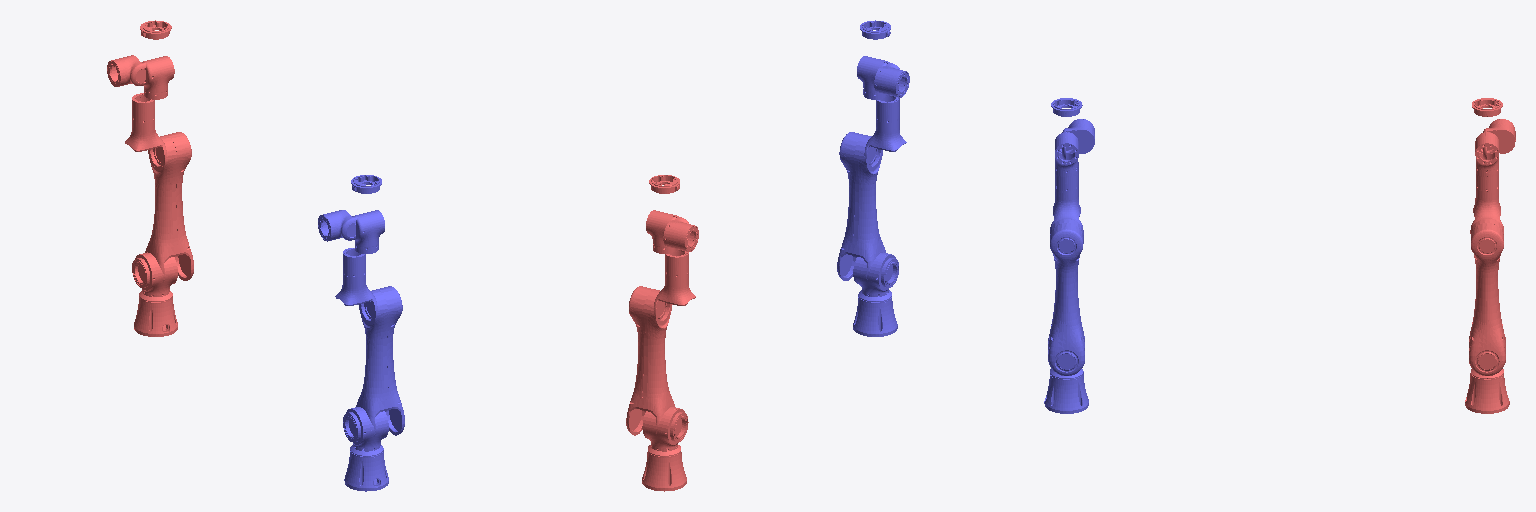
robot.urdf — dual_arm620:
<?xml version="1.0" encoding="utf-8"?>
<robot name="dual_arm620" xmlns:tesseract="http://ros-industrial.org/tesseract" tesseract:make_convex="true">
  <!-- World link -->
  <link name="world"/>

  <!-- ========== 左臂 (Left Arm) ========== -->
  <link name="left_base_link">
    <inertial>
      <origin xyz="-3.493E-05 1.9321E-08 0.041738" rpy="0 0 0" />
      <mass value="1.235" />
      <inertia
        ixx="0.00069305"
        ixy="-2.4629E-09"
        ixz="-7.7538E-07"
        iyy="0.00069224"
        iyz="1.1986E-09"
        izz="0.00059207" />
    </inertial>
    <visual>
      <origin xyz="0 0 0" rpy="0 0 0" />
      <geometry>
        <mesh filename="package://robot_description/meshes/arm620/base_link.STL" />
      </geometry>
      <material name="">
        <color rgba="0.5 0.5 1 1" />
      </material>
    </visual>
    <collision>
      <origin xyz="0 0 0" rpy="0 0 0" />
      <geometry>
        <mesh filename="package://robot_description/meshes/arm620/base_link.STL" />
      </geometry>
    </collision>
  </link>

  <link name="left_Link1">
    <inertial>
      <origin xyz="0.0083082 -9.0414E-07 0.066279" rpy="0 0 0" />
      <mass value="1.0225" />
      <inertia
        ixx="0.00033468"
        ixy="-1.0629E-08"
        ixz="-6.9769E-06"
        iyy="0.0002898"
        iyz="-1.0465E-08"
        izz="0.00026359" />
    </inertial>
    <visual>
      <origin xyz="0 0 0" rpy="0 0 0" />
      <geometry>
        <mesh filename="package://robot_description/meshes/arm620/Link1.STL" />
      </geometry>
      <material name="">
        <color rgba="0.5 0.5 1 1" />
      </material>
    </visual>
    <collision>
      <origin xyz="0 0 0" rpy="0 0 0" />
      <geometry>
        <mesh filename="package://robot_description/meshes/arm620/Link1.STL" />
      </geometry>
    </collision>
  </link>

  <link name="left_Link2">
    <inertial>
      <origin xyz="1.6176E-06 0.19554 -0.0019139" rpy="0 0 0" />
      <mass value="1.925" />
      <inertia
        ixx="0.0092613"
        ixy="2.9244E-08"
        ixz="-6.7107E-09"
        iyy="0.00075528"
        iyz="-1.5539E-05"
        izz="0.0090845" />
    </inertial>
    <visual>
      <origin xyz="0 0 0" rpy="0 0 0" />
      <geometry>
        <mesh filename="package://robot_description/meshes/arm620/Link2.STL" />
      </geometry>
      <material name="">
        <color rgba="0.5 0.5 1 1" />
      </material>
    </visual>
    <collision>
      <origin xyz="0 0 0" rpy="0 0 0" />
      <geometry>
        <mesh filename="package://robot_description/meshes/arm620/Link2.STL" />
      </geometry>
    </collision>
  </link>

  <link name="left_Link3">
    <inertial>
      <origin xyz="1.8251E-05 -0.073691 0.010704" rpy="0 0 0" />
      <mass value="0.73" />
      <inertia
        ixx="0.00059318"
        ixy="1.2073E-07"
        ixz="1.9423E-08"
        iyy="0.00015563"
        iyz="-0.00011324"
        izz="0.00055379" />
    </inertial>
    <visual>
      <origin xyz="0 0 0" rpy="0 0 0" />
      <geometry>
        <mesh filename="package://robot_description/meshes/arm620/Link3.STL" />
      </geometry>
      <material name="">
        <color rgba="0.5 0.5 1 1" />
      </material>
    </visual>
    <collision>
      <origin xyz="0 0 0" rpy="0 0 0" />
      <geometry>
        <mesh filename="package://robot_description/meshes/arm620/Link3.STL" />
      </geometry>
    </collision>
  </link>

  <link name="left_Link4">
    <inertial>
      <origin xyz="0.0059454 2.5068E-05 0.051809" rpy="0 0 0" />
      <mass value="0.5174" />
      <inertia
        ixx="0.00010342"
        ixy="-7.9433E-09"
        ixz="-7.9245E-06"
        iyy="0.0001193"
        iyz="-1.6196E-08"
        izz="8.5637E-05" />
    </inertial>
    <visual>
      <origin xyz="0 0 0" rpy="0 0 0" />
      <geometry>
        <mesh filename="package://robot_description/meshes/arm620/Link4.STL" />
      </geometry>
      <material name="">
        <color rgba="0.5 0.5 1 1" />
      </material>
    </visual>
    <collision>
      <origin xyz="0 0 0" rpy="0 0 0" />
      <geometry>
        <mesh filename="package://robot_description/meshes/arm620/Link4.STL" />
      </geometry>
    </collision>
  </link>

  <link name="left_Link5">
    <inertial>
      <origin xyz="0.0095168 0.061153 1.0106E-05" rpy="0 0 0" />
      <mass value="0.7233" />
      <inertia
        ixx="0.00013586"
        ixy="3.9115E-05"
        ixz="3.3963E-08"
        iyy="0.00010055"
        iyz="-1.3885E-07"
        izz="0.0001594" />
    </inertial>
    <visual>
      <origin xyz="0 0 0" rpy="0 0 0" />
      <geometry>
        <mesh filename="package://robot_description/meshes/arm620/Link5.STL" />
      </geometry>
      <material name="">
        <color rgba="0.5 0.5 1 1" />
      </material>
    </visual>
    <collision>
      <origin xyz="0 0 0" rpy="0 0 0" />
      <geometry>
        <mesh filename="package://robot_description/meshes/arm620/Link5.STL" />
      </geometry>
    </collision>
  </link>

  <link name="left_Link6">
    <inertial>
      <origin xyz="-0.0023023 0.0016027 0.010682" rpy="0 0 0" />
      <mass value="0.0953" />
      <inertia
        ixx="1.3179E-05"
        ixy="-9.4826E-08"
        ixz="2.2437E-07"
        iyy="1.3416E-05"
        iyz="-1.8512E-07"
        izz="2.4622E-05" />
    </inertial>
    <visual>
      <origin xyz="0 0 0" rpy="0 0 0" />
      <geometry>
        <mesh filename="package://robot_description/meshes/arm620/Link6.STL" />
      </geometry>
      <material name="">
        <color rgba="0.5 0.5 1 1" />
      </material>
    </visual>
    <collision>
      <origin xyz="0 0 0" rpy="0 0 0" />
      <geometry>
        <mesh filename="package://robot_description/meshes/arm620/Link6.STL" />
      </geometry>
    </collision>
  </link>

  <!-- 左臂关节连接 -->
  <joint name="left_base_joint" type="fixed">
    <parent link="world"/>
    <child link="left_base_link"/>
    <origin xyz="0 -0.5 0" rpy="0 0 0" />
    <axis xyz="0 0 1" />
  </joint>

  <joint name="left_joint1" type="revolute">
    <origin xyz="0 0 0.084" rpy="0 0 0" />
    <parent link="left_base_link" />
    <child link="left_Link1" />
    <axis xyz="0 0 1" />
    <limit lower="-2.967" upper="2.967" effort="51" velocity="3.14" />
  </joint>

  <joint name="left_joint2" type="revolute">
    <origin xyz="0 0 0.068718" rpy="1.5708 0 -1.5708" />
    <parent link="left_Link1" />
    <child link="left_Link2" />
    <axis xyz="0 0 -1" />
    <limit lower="-1.5708" upper="1.5708" effort="51" velocity="3.14" />
  </joint>

  <joint name="left_joint3" type="revolute">
    <origin xyz="0 0.30025 0" rpy="-3.1416 0 0" />
    <parent link="left_Link2" />
    <child link="left_Link3" />
    <axis xyz="0 0 1" />
    <limit lower="-1.5708" upper="1.5708" effort="51" velocity="3.14" />
  </joint>

  <joint name="left_joint4" type="revolute">
    <origin xyz="0 -0.15558 3.5E-05" rpy="1.5708 -1.5708 0" />
    <parent link="left_Link3" />
    <child link="left_Link4" />
    <axis xyz="0 0 1" />
    <limit lower="-2.967" upper="2.967" effort="9" velocity="3.14" />
  </joint>

  <joint name="left_joint5" type="revolute">
    <origin xyz="-3.5E-05 1.5362E-05 0.064223" rpy="1.5708 0 0" />
    <parent link="left_Link4" />
    <child link="left_Link5" />
    <axis xyz="1 0 0" />
    <limit lower="-1.5708" upper="1.5708" effort="9" velocity="3.14" />
  </joint>

  <joint name="left_joint6" type="revolute">
    <origin xyz="-0.00047523 0.095552 0" rpy="-1.5709 0 0" />
    <parent link="left_Link5" />
    <child link="left_Link6" />
    <axis xyz="0 0 1" />
    <limit lower="-2.967" upper="2.967" effort="9" velocity="3.14" />
  </joint>

  <!-- ========== 右臂 (Right Arm) ========== -->
  <link name="right_base_link">
    <inertial>
      <origin xyz="-3.493E-05 1.9321E-08 0.041738" rpy="0 0 0" />
      <mass value="1.235" />
      <inertia
        ixx="0.00069305"
        ixy="-2.4629E-09"
        ixz="-7.7538E-07"
        iyy="0.00069224"
        iyz="1.1986E-09"
        izz="0.00059207" />
    </inertial>
    <visual>
      <origin xyz="0 0 0" rpy="0 0 0" />
      <geometry>
        <mesh filename="package://robot_description/meshes/arm620/base_link.STL" />
      </geometry>
      <material name="">
        <color rgba="1 0.5 0.5 1" />
      </material>
    </visual>
    <collision>
      <origin xyz="0 0 0" rpy="0 0 0" />
      <geometry>
        <mesh filename="package://robot_description/meshes/arm620/base_link.STL" />
      </geometry>
    </collision>
  </link>

  <link name="right_Link1">
    <inertial>
      <origin xyz="0.0083082 -9.0414E-07 0.066279" rpy="0 0 0" />
      <mass value="1.0225" />
      <inertia
        ixx="0.00033468"
        ixy="-1.0629E-08"
        ixz="-6.9769E-06"
        iyy="0.0002898"
        iyz="-1.0465E-08"
        izz="0.00026359" />
    </inertial>
    <visual>
      <origin xyz="0 0 0" rpy="0 0 0" />
      <geometry>
        <mesh filename="package://robot_description/meshes/arm620/Link1.STL" />
      </geometry>
      <material name="">
        <color rgba="1 0.5 0.5 1" />
      </material>
    </visual>
    <collision>
      <origin xyz="0 0 0" rpy="0 0 0" />
      <geometry>
        <mesh filename="package://robot_description/meshes/arm620/Link1.STL" />
      </geometry>
    </collision>
  </link>

  <link name="right_Link2">
    <inertial>
      <origin xyz="1.6176E-06 0.19554 -0.0019139" rpy="0 0 0" />
      <mass value="1.925" />
      <inertia
        ixx="0.0092613"
        ixy="2.9244E-08"
        ixz="-6.7107E-09"
        iyy="0.00075528"
        iyz="-1.5539E-05"
        izz="0.0090845" />
    </inertial>
    <visual>
      <origin xyz="0 0 0" rpy="0 0 0" />
      <geometry>
        <mesh filename="package://robot_description/meshes/arm620/Link2.STL" />
      </geometry>
      <material name="">
        <color rgba="1 0.5 0.5 1" />
      </material>
    </visual>
    <collision>
      <origin xyz="0 0 0" rpy="0 0 0" />
      <geometry>
        <mesh filename="package://robot_description/meshes/arm620/Link2.STL" />
      </geometry>
    </collision>
  </link>

  <link name="right_Link3">
    <inertial>
      <origin xyz="1.8251E-05 -0.073691 0.010704" rpy="0 0 0" />
      <mass value="0.73" />
      <inertia
        ixx="0.00059318"
        ixy="1.2073E-07"
        ixz="1.9423E-08"
        iyy="0.00015563"
        iyz="-0.00011324"
        izz="0.00055379" />
    </inertial>
    <visual>
      <origin xyz="0 0 0" rpy="0 0 0" />
      <geometry>
        <mesh filename="package://robot_description/meshes/arm620/Link3.STL" />
      </geometry>
      <material name="">
        <color rgba="1 0.5 0.5 1" />
      </material>
    </visual>
    <collision>
      <origin xyz="0 0 0" rpy="0 0 0" />
      <geometry>
        <mesh filename="package://robot_description/meshes/arm620/Link3.STL" />
      </geometry>
    </collision>
  </link>

  <link name="right_Link4">
    <inertial>
      <origin xyz="0.0059454 2.5068E-05 0.051809" rpy="0 0 0" />
      <mass value="0.5174" />
      <inertia
        ixx="0.00010342"
        ixy="-7.9433E-09"
        ixz="-7.9245E-06"
        iyy="0.0001193"
        iyz="-1.6196E-08"
        izz="8.5637E-05" />
    </inertial>
    <visual>
      <origin xyz="0 0 0" rpy="0 0 0" />
      <geometry>
        <mesh filename="package://robot_description/meshes/arm620/Link4.STL" />
      </geometry>
      <material name="">
        <color rgba="1 0.5 0.5 1" />
      </material>
    </visual>
    <collision>
      <origin xyz="0 0 0" rpy="0 0 0" />
      <geometry>
        <mesh filename="package://robot_description/meshes/arm620/Link4.STL" />
      </geometry>
    </collision>
  </link>

  <link name="right_Link5">
    <inertial>
      <origin xyz="0.0095168 0.061153 1.0106E-05" rpy="0 0 0" />
      <mass value="0.7233" />
      <inertia
        ixx="0.00013586"
        ixy="3.9115E-05"
        ixz="3.3963E-08"
        iyy="0.00010055"
        iyz="-1.3885E-07"
        izz="0.0001594" />
    </inertial>
    <visual>
      <origin xyz="0 0 0" rpy="0 0 0" />
      <geometry>
        <mesh filename="package://robot_description/meshes/arm620/Link5.STL" />
      </geometry>
      <material name="">
        <color rgba="1 0.5 0.5 1" />
      </material>
    </visual>
    <collision>
      <origin xyz="0 0 0" rpy="0 0 0" />
      <geometry>
        <mesh filename="package://robot_description/meshes/arm620/Link5.STL" />
      </geometry>
    </collision>
  </link>

  <link name="right_Link6">
    <inertial>
      <origin xyz="-0.0023023 0.0016027 0.010682" rpy="0 0 0" />
      <mass value="0.0953" />
      <inertia
        ixx="1.3179E-05"
        ixy="-9.4826E-08"
        ixz="2.2437E-07"
        iyy="1.3416E-05"
        iyz="-1.8512E-07"
        izz="2.4622E-05" />
    </inertial>
    <visual>
      <origin xyz="0 0 0" rpy="0 0 0" />
      <geometry>
        <mesh filename="package://robot_description/meshes/arm620/Link6.STL" />
      </geometry>
      <material name="">
        <color rgba="1 0.5 0.5 1" />
      </material>
    </visual>
    <collision>
      <origin xyz="0 0 0" rpy="0 0 0" />
      <geometry>
        <mesh filename="package://robot_description/meshes/arm620/Link6.STL" />
      </geometry>
    </collision>
  </link>

  <!-- 右臂关节连接 -->
  <joint name="right_base_joint" type="fixed">
    <parent link="world"/>
    <child link="right_base_link"/>
    <origin xyz="0 0.5 0" rpy="0 0 0" />
    <axis xyz="0 0 1" />
  </joint>

  <joint name="right_joint1" type="revolute">
    <origin xyz="0 0 0.084" rpy="0 0 0" />
    <parent link="right_base_link" />
    <child link="right_Link1" />
    <axis xyz="0 0 1" />
    <limit lower="-2.967" upper="2.967" effort="51" velocity="3.14" />
  </joint>

  <joint name="right_joint2" type="revolute">
    <origin xyz="0 0 0.068718" rpy="1.5708 0 -1.5708" />
    <parent link="right_Link1" />
    <child link="right_Link2" />
    <axis xyz="0 0 -1" />
    <limit lower="-1.5708" upper="1.5708" effort="51" velocity="3.14" />
  </joint>

  <joint name="right_joint3" type="revolute">
    <origin xyz="0 0.30025 0" rpy="-3.1416 0 0" />
    <parent link="right_Link2" />
    <child link="right_Link3" />
    <axis xyz="0 0 1" />
    <limit lower="-1.5708" upper="1.5708" effort="51" velocity="3.14" />
  </joint>

  <joint name="right_joint4" type="revolute">
    <origin xyz="0 -0.15558 3.5E-05" rpy="1.5708 -1.5708 0" />
    <parent link="right_Link3" />
    <child link="right_Link4" />
    <axis xyz="0 0 1" />
    <limit lower="-2.967" upper="2.967" effort="9" velocity="3.14" />
  </joint>

  <joint name="right_joint5" type="revolute">
    <origin xyz="-3.5E-05 1.5362E-05 0.064223" rpy="1.5708 0 0" />
    <parent link="right_Link4" />
    <child link="right_Link5" />
    <axis xyz="1 0 0" />
    <limit lower="-1.5708" upper="1.5708" effort="9" velocity="3.14" />
  </joint>

  <joint name="right_joint6" type="revolute">
    <origin xyz="-0.00047523 0.095552 0" rpy="-1.5709 0 0" />
    <parent link="right_Link5" />
    <child link="right_Link6" />
    <axis xyz="0 0 1" />
    <limit lower="-2.967" upper="2.967" effort="9" velocity="3.14" />
  </joint>

</robot>

--- What the picture shows (computed from the rendered views, not written in the file) ---
The picture shows the robot from 3 angles, left to right: view 1: azimuth 30°, elevation 25°; view 2: azimuth 150°, elevation 25°; view 3: azimuth 270°, elevation 25°; orthographic projection.
Robot: dual_arm620 — 15 links, 14 joints (12 revolute, 2 fixed); root link world; default pose: every joint at zero.
Links seen in each view (by area): view 1: right_Link2, left_Link2, left_Link1, right_Link1, left_Link3, right_Link3, left_base_link, right_base_link, left_Link4, right_Link4, right_Link5, left_Link5; view 2: right_Link2, left_Link2, right_Link1, left_Link3, right_Link3, left_Link1, left_base_link, right_base_link, right_Link5, left_Link5, left_Link4, right_Link4; view 3: left_Link2, right_Link2, left_base_link, right_base_link, left_Link3, right_Link3, left_Link4, right_Link4, right_Link5, left_Link5.
Link boxes in pixels (x1,y1,x2,y2): right_Link2: (145, 132, 193, 282); left_Link2: (356, 286, 404, 436); left_Link1: (343, 407, 388, 456); right_Link1: (132, 252, 177, 301); left_Link3: (335, 248, 377, 322); right_Link3: (125, 93, 166, 168); left_base_link: (344, 451, 388, 491); right_base_link: (134, 297, 177, 336); left_Link4: (352, 210, 384, 253); right_Link4: (142, 56, 174, 99); right_Link5: (107, 55, 157, 86); left_Link5: (318, 210, 367, 241); right_Link2: (626, 286, 674, 436); left_Link2: (837, 132, 885, 282); right_Link1: (642, 407, 688, 456); left_Link3: (864, 95, 906, 168); right_Link3: (654, 249, 695, 323); left_Link1: (853, 252, 898, 301); left_base_link: (853, 296, 897, 336); right_base_link: (642, 452, 686, 491); right_Link5: (663, 213, 698, 251); left_Link5: (874, 59, 909, 97); left_Link4: (857, 56, 887, 99); right_Link4: (646, 210, 678, 253); left_Link2: (1048, 219, 1084, 375); right_Link2: (1469, 219, 1505, 375); left_base_link: (1044, 373, 1088, 413); right_base_link: (1465, 373, 1509, 413); left_Link3: (1050, 172, 1083, 231); right_Link3: (1470, 174, 1503, 233); left_Link4: (1055, 132, 1078, 176); right_Link4: (1475, 132, 1498, 176); right_Link5: (1483, 119, 1515, 159); left_Link5: (1062, 119, 1094, 159).
Size in the robot's own frame: 0.182 by 1.12 by 0.7893 metres.
14 mesh visuals loaded from 7 distinct referenced files (7 binary STL).
